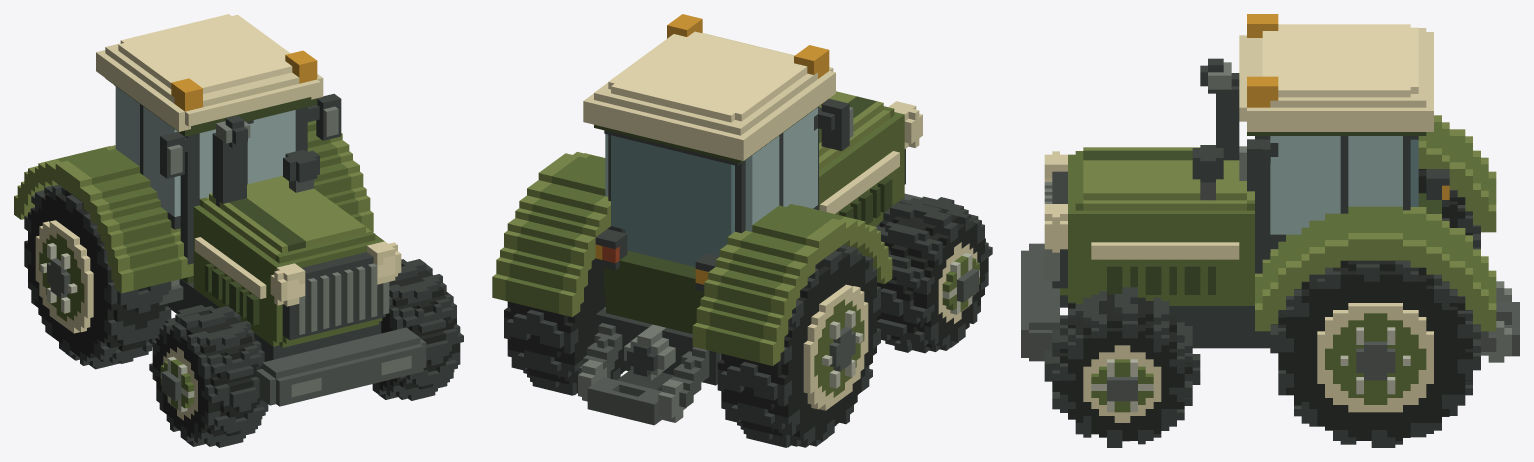
Rendered from tractor.glb.
3 views of the same model, side by side, from view 1: azimuth 30°, elevation 25°; view 2: azimuth 150°, elevation 25°; view 3: azimuth 270°, elevation 25° (orthographic). The views are drawn at different scales.
Parts seen in each view (by area): view 1: tractor; view 2: tractor; view 3: tractor.
Part boxes in pixels (x1,y1,x2,y2): tractor: (14, 14, 463, 447); tractor: (492, 14, 992, 447); tractor: (1021, 14, 1519, 447).
Bounding box in the file's own units: 3.68 × 3.76 × 5.12.
